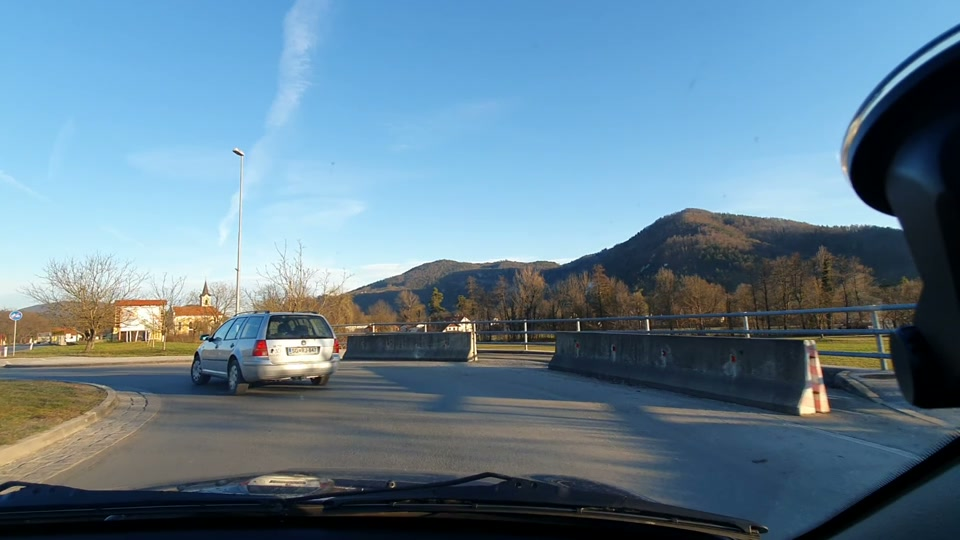vehicle_ign: (180, 300, 354, 398)
